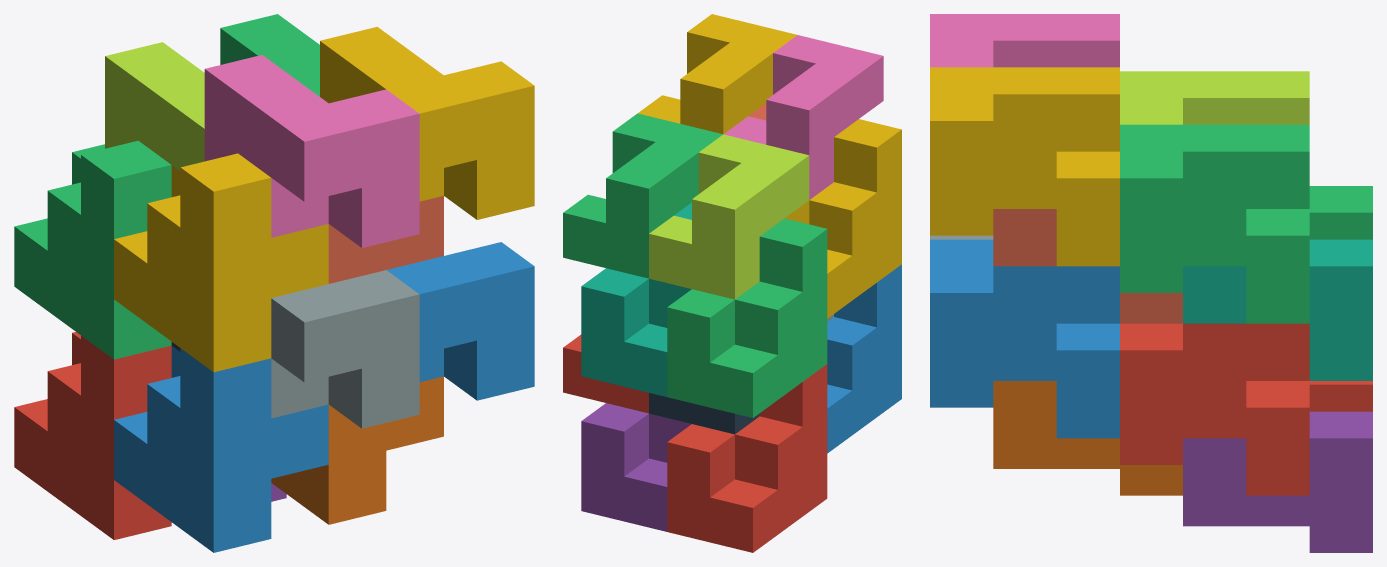
The model's file is tiling.obj.
3 views of the same model, side by side, from view 1: azimuth 30°, elevation 25°; view 2: azimuth 150°, elevation 25°; view 3: azimuth 270°, elevation 25° (orthographic). The views are drawn at different scales.
Visible parts, largest first — view 1: copy_1_domain_4, copy_2_domain_4, copy_1_domain_2, copy_2_domain_8, copy_1_domain_3, copy_2_domain_2, copy_1_domain_1, copy_2_domain_6, copy_2_domain_3, copy_1_domain_6, copy_1_domain_8, copy_2_domain_7; view 2: copy_1_domain_3, copy_1_domain_1, copy_2_domain_3, copy_2_domain_7, copy_1_domain_4, copy_2_domain_4, copy_1_domain_7, copy_1_domain_2, copy_2_domain_8, copy_1_domain_5, copy_2_domain_5, copy_2_domain_1; view 3: copy_2_domain_7, copy_2_domain_8, copy_2_domain_6, copy_2_domain_5, copy_1_domain_5, copy_1_domain_7, copy_2_domain_3, copy_2_domain_4, copy_1_domain_6, copy_1_domain_8, copy_1_domain_3, copy_1_domain_1.
Part boxes in pixels (left/top/right/bottom): copy_1_domain_4: left=114, top=153, right=328, bottom=372; copy_2_domain_4: left=204, top=55, right=419, bottom=247; copy_1_domain_2: left=114, top=346, right=328, bottom=552; copy_2_domain_8: left=320, top=26, right=534, bottom=219; copy_1_domain_3: left=14, top=140, right=171, bottom=359; copy_2_domain_2: left=271, top=270, right=419, bottom=428; copy_1_domain_1: left=14, top=332, right=171, bottom=539; copy_2_domain_6: left=386, top=242, right=534, bottom=400; copy_2_domain_3: left=105, top=42, right=204, bottom=170; copy_1_domain_6: left=271, top=376, right=443, bottom=524; copy_1_domain_8: left=328, top=196, right=443, bottom=283; copy_2_domain_7: left=220, top=14, right=319, bottom=96; copy_1_domain_3: left=667, top=218, right=827, bottom=417; copy_1_domain_1: left=667, top=364, right=827, bottom=552; copy_2_domain_3: left=649, top=134, right=809, bottom=299; copy_2_domain_7: left=563, top=113, right=722, bottom=278; copy_1_domain_4: left=785, top=119, right=901, bottom=318; copy_2_domain_4: left=724, top=35, right=883, bottom=199; copy_1_domain_7: left=581, top=202, right=691, bottom=396; copy_1_domain_2: left=827, top=264, right=901, bottom=453; copy_2_domain_8: left=638, top=14, right=797, bottom=134; copy_1_domain_5: left=581, top=403, right=691, bottom=531; copy_2_domain_5: left=563, top=334, right=648, bottom=413; copy_2_domain_1: left=649, top=393, right=759, bottom=434; copy_2_domain_7: left=1120, top=124, right=1309, bottom=323; copy_2_domain_8: left=930, top=67, right=1119, bottom=266; copy_2_domain_6: left=930, top=239, right=1119, bottom=438; copy_2_domain_5: left=1120, top=323, right=1309, bottom=495; copy_1_domain_5: left=1183, top=411, right=1372, bottom=552; copy_1_domain_7: left=1183, top=239, right=1372, bottom=380; copy_2_domain_3: left=1120, top=71, right=1309, bottom=124; copy_2_domain_4: left=930, top=14, right=1119, bottom=67; copy_1_domain_6: left=993, top=381, right=1182, bottom=495; copy_1_domain_8: left=993, top=209, right=1182, bottom=323; copy_1_domain_3: left=1309, top=186, right=1372, bottom=239; copy_1_domain_1: left=1309, top=381, right=1372, bottom=411.
Bounding box in the file's own units: 5 × 8 × 7.
